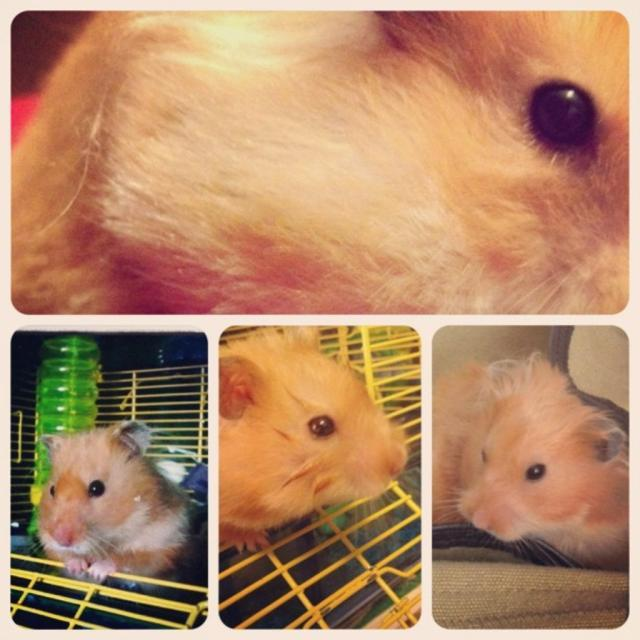rat: (11, 9, 632, 315), (430, 348, 628, 573), (218, 324, 414, 549), (23, 422, 199, 597)
